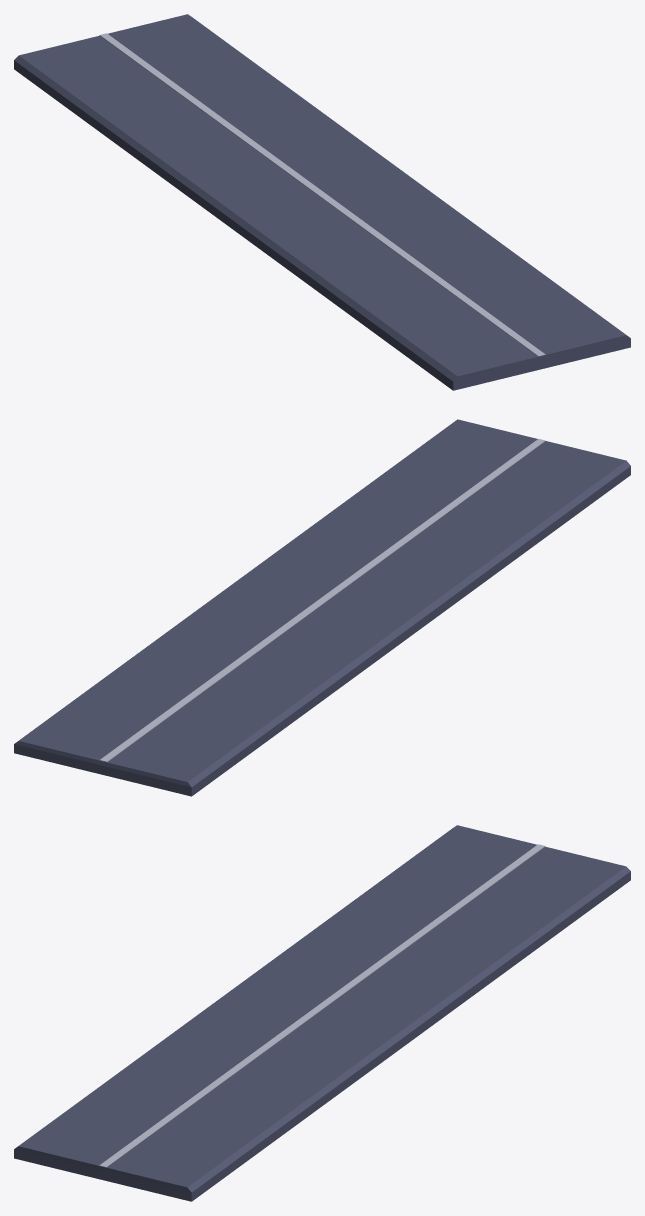
The model's file is CUPIC_ROAD.obj.
3 renders of one model, top to bottom at view 1: azimuth 30°, elevation 25°; view 2: azimuth 150°, elevation 25°; view 3: azimuth 330°, elevation 25°, orthographic.
Bounding box in the file's own units: 231 × 17.18 × 988.
1 material, 1 textured.
